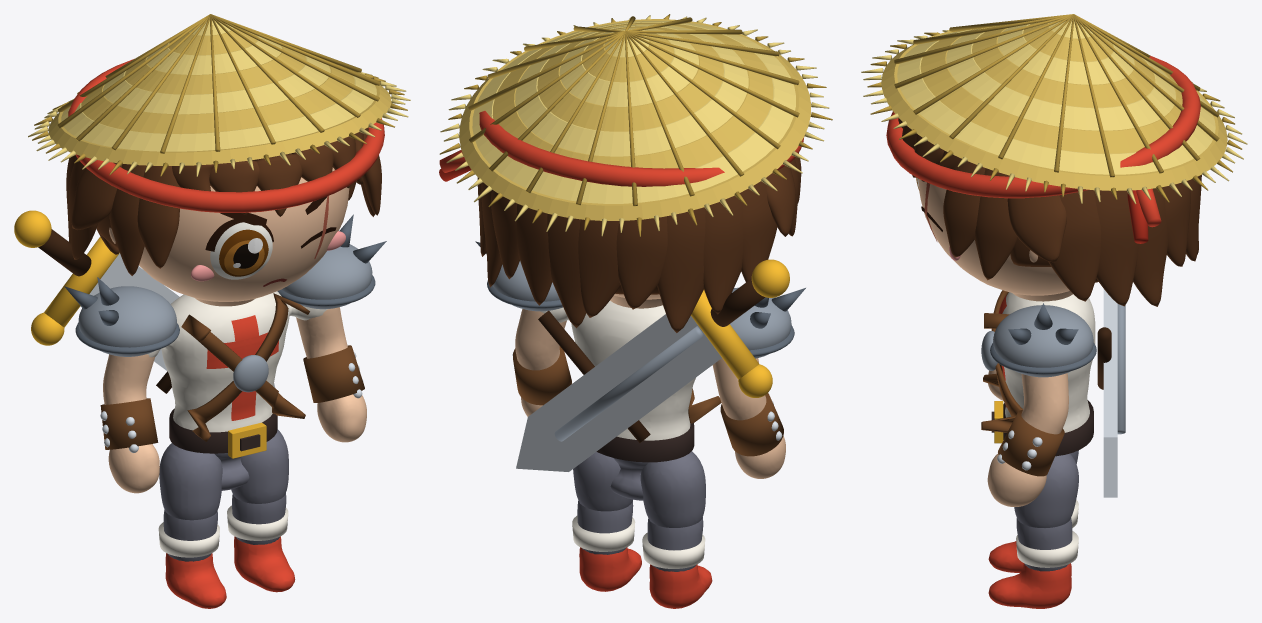
Rendered from iop-berserker-b.glb.
The picture shows the model from 3 angles, left to right: view 1: azimuth 30°, elevation 25°; view 2: azimuth 150°, elevation 25°; view 3: azimuth 270°, elevation 25°; orthographic projection. The views are drawn at different scales.
Parts seen in each view (by area): view 1: meches, crane, tunique, bandeau, cone, cone_bord, cone.001, epauliere, cone.002, jambe, cone.003, epauliere.002 (+45 smaller); view 2: meches, lame, cone_bord, cone, cone.002, cone.001, cone.003, tunique, bandeau, jambe, cone.004, jambe.001 (+37 smaller); view 3: meches, cone, cone_bord, cone.001, bandeau, cone.002, epauliere.002, cone.003, crane, tunique, cone.004, jambe.001 (+29 smaller).
Boxes of the visible parts, x1,y1,x2,y2 form: meches: [66, 127, 381, 275]; crane: [139, 167, 349, 301]; tunique: [147, 291, 329, 432]; bandeau: [68, 59, 384, 212]; cone: [61, 66, 376, 151]; cone_bord: [48, 72, 391, 165]; cone.001: [81, 66, 354, 133]; epauliere: [78, 286, 176, 356]; cone.002: [103, 56, 330, 114]; jambe: [159, 443, 222, 520]; cone.003: [124, 45, 306, 94]; epauliere.002: [281, 244, 372, 309]; meches: [477, 153, 801, 332]; lame: [516, 314, 721, 471]; cone_bord: [459, 19, 811, 220]; cone: [472, 21, 795, 203]; cone.002: [515, 24, 748, 156]; cone.001: [492, 22, 773, 168]; cone.003: [537, 26, 723, 131]; tunique: [540, 301, 695, 440]; bandeau: [479, 111, 803, 186]; jambe: [640, 451, 705, 527]; cone.004: [559, 28, 698, 106]; jambe.001: [573, 452, 632, 511]; meches: [898, 118, 1201, 306]; cone: [897, 29, 1215, 174]; cone_bord: [881, 31, 1227, 190]; cone.001: [920, 26, 1182, 153]; bandeau: [886, 55, 1200, 198]; cone.002: [946, 25, 1175, 130]; epauliere.002: [993, 305, 1093, 377]; cone.003: [972, 28, 1155, 107]; crane: [918, 178, 1069, 295]; tunique: [1002, 292, 1095, 432]; cone.004: [997, 24, 1134, 84]; jambe.001: [1014, 453, 1078, 527].
Size of the model in its own units: 2 by 3.15 by 1.92.
